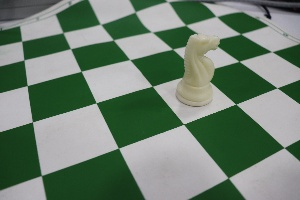white_horse: (171, 20, 226, 115)
